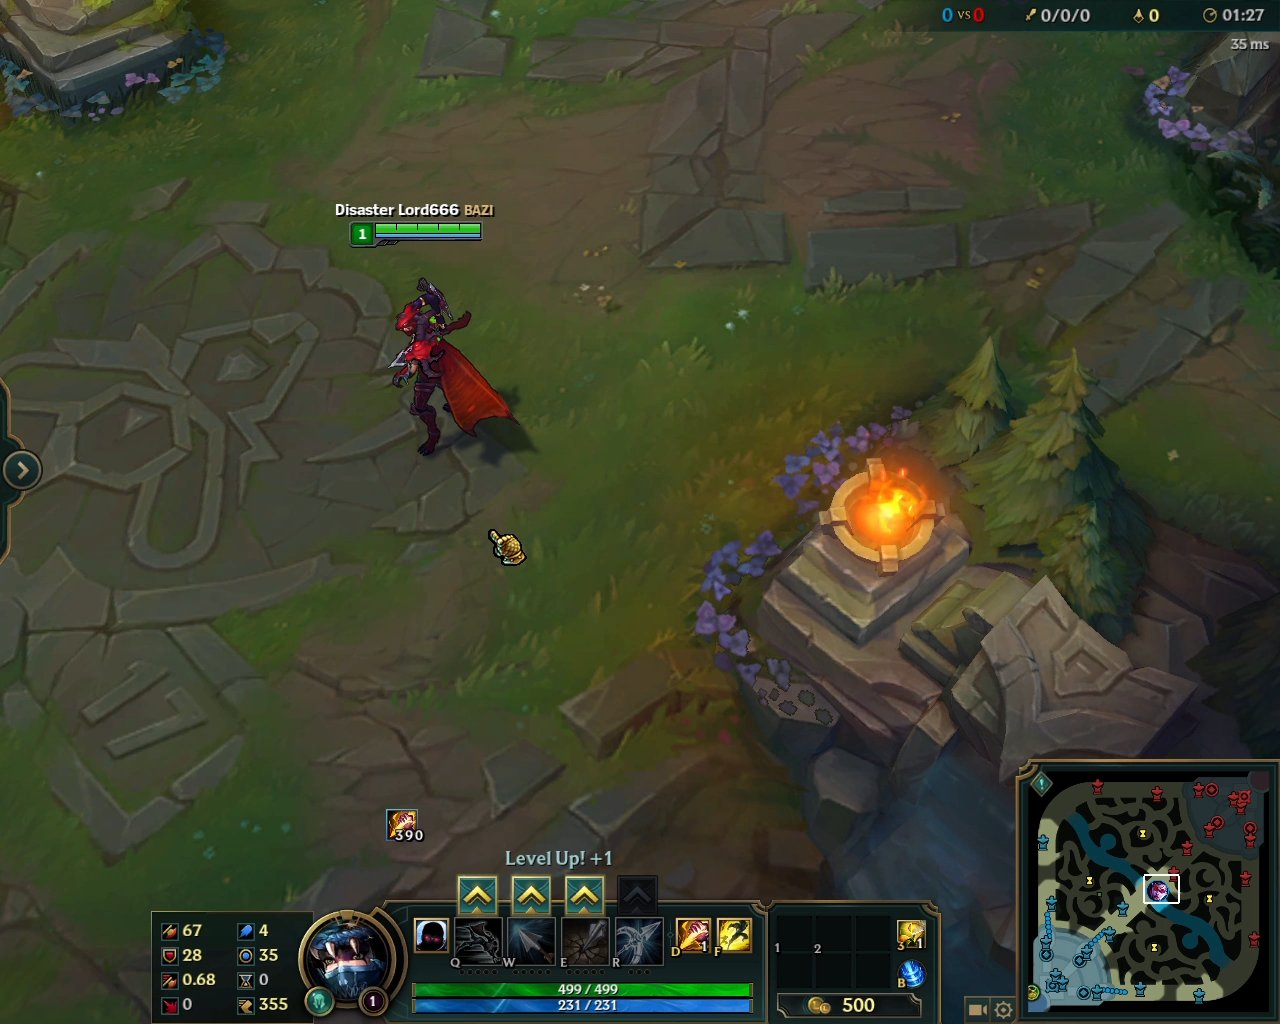Vayne: (385, 267, 523, 464)
